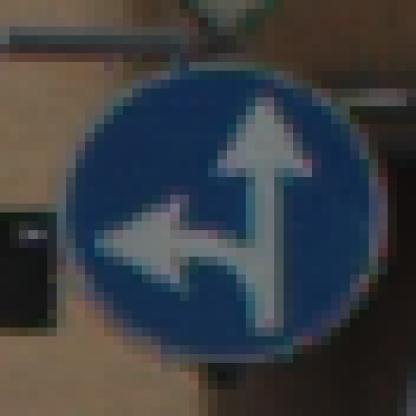Straight or Left: (58, 54, 360, 373)
